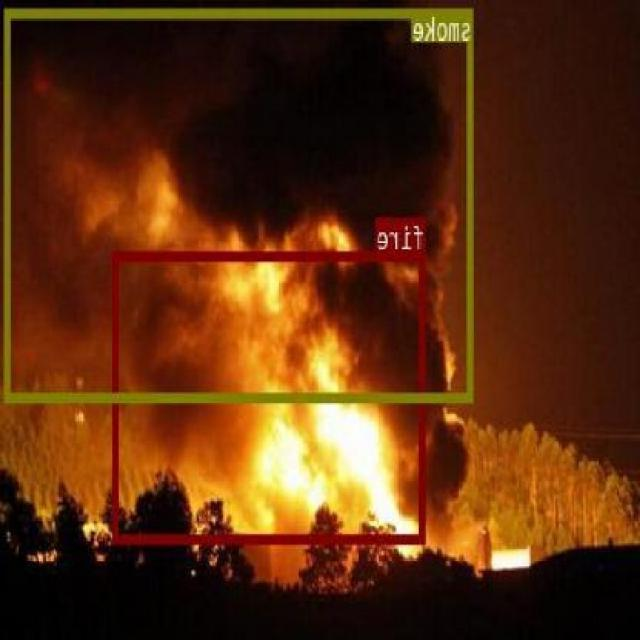Fire: (152, 255, 376, 550)
Smoke: (21, 10, 464, 390), (338, 285, 456, 493)
